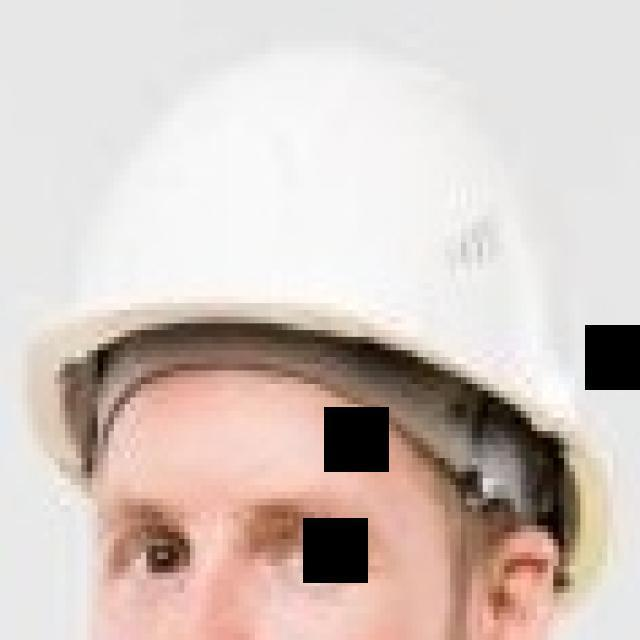white helmet: (48, 53, 610, 477)
